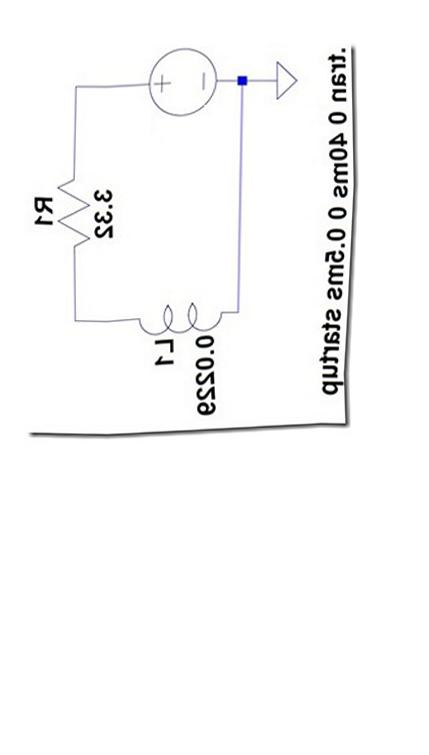Battery: (128, 30, 226, 133)
